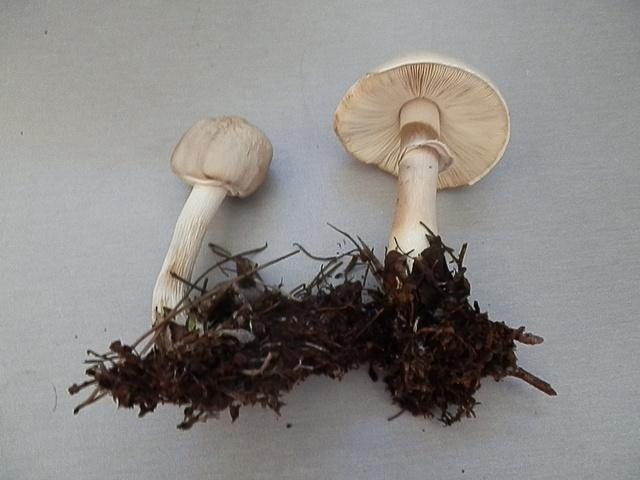Non-edible Mushroom: (125, 106, 292, 407), (331, 50, 512, 276)
